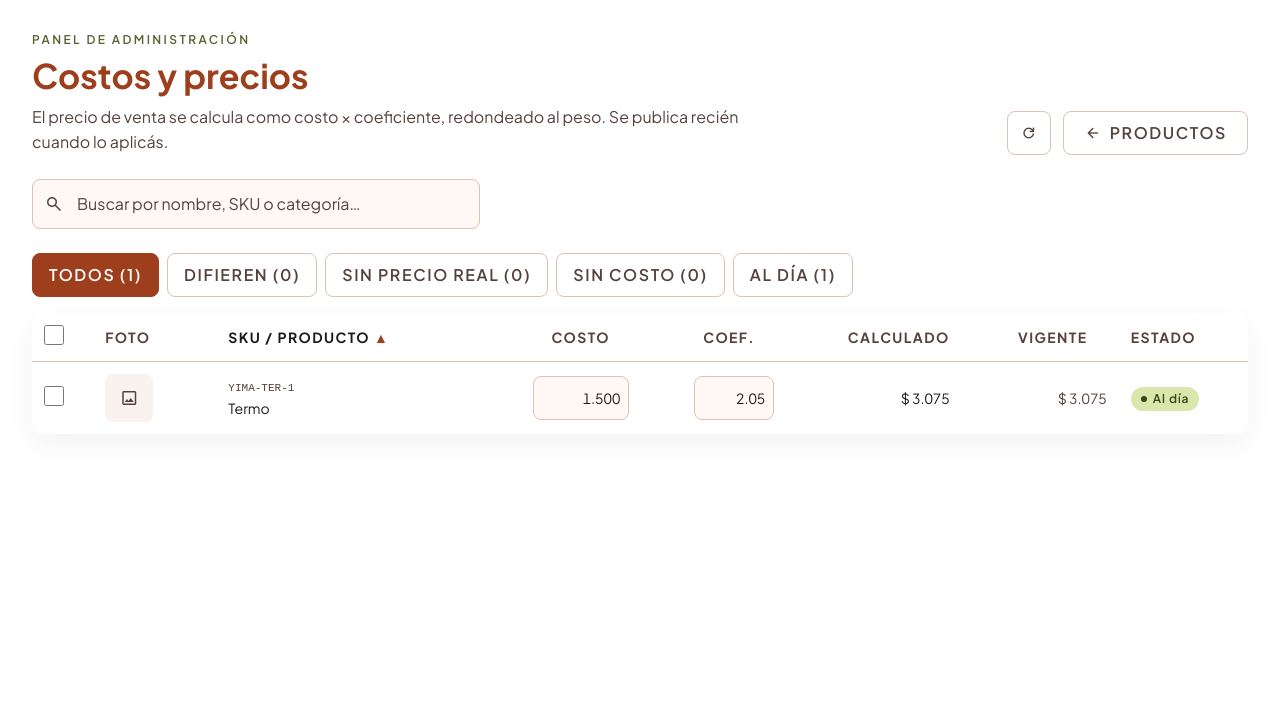
it: AdminPrecios — un costo sin escribir bloquea la previsualización › un borrador en una fila seleccionada bloquea el diálogo y NOMBRA la fila
Expected: the text "Termo" is shown, [228,399,270,417]
Click the checkbox named "Seleccionar Termo" at (54, 396), box [44,386,64,406]
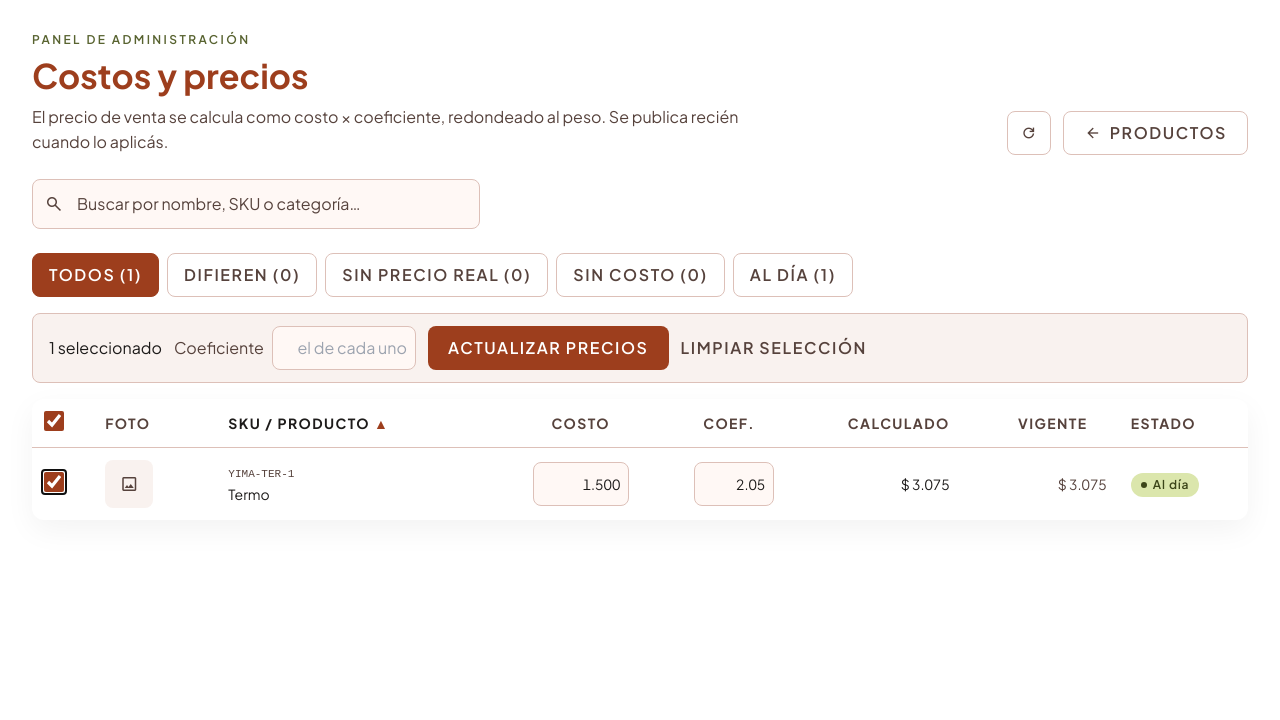
Clear the 1st field named "Costo de Termo" at (581, 484), box [533,462,629,506]
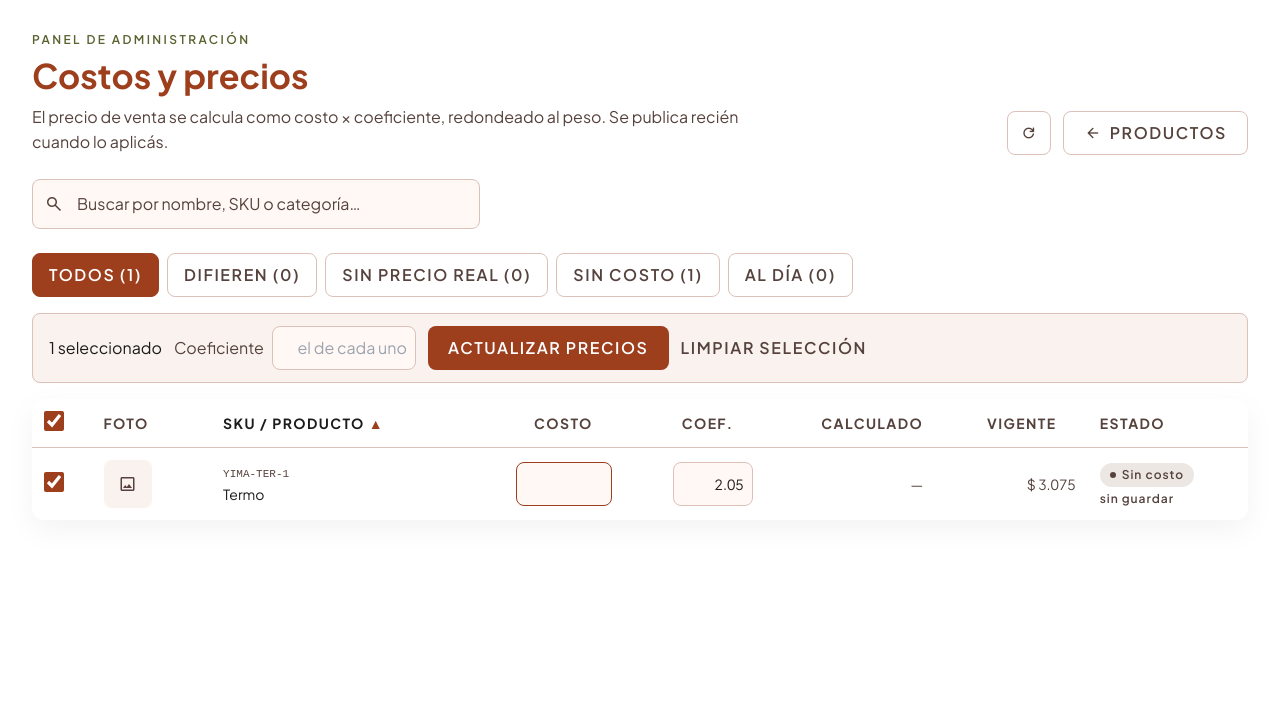
Type "2000" into the 1st field named "Costo de Termo" at (564, 484), box [516,462,612,506]
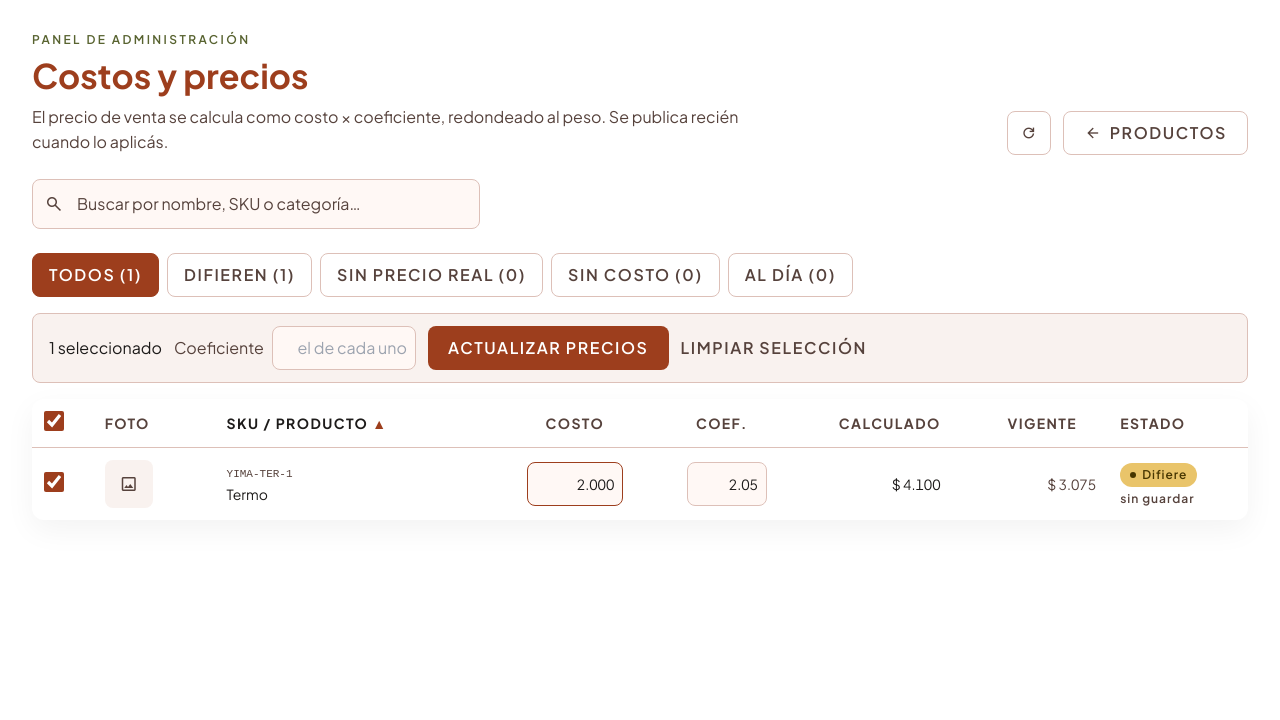
Click the button "Actualizar precios" at (548, 348), box [428,326,669,370]
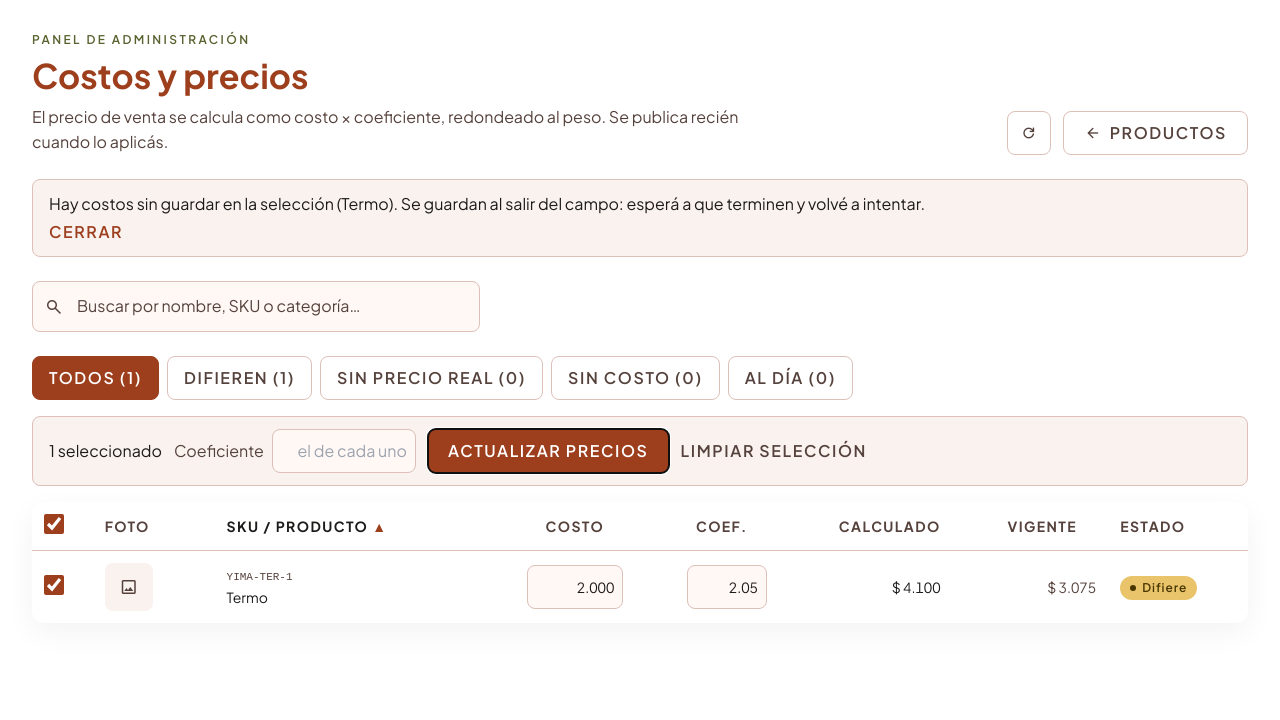
Now the message shows "Hay costos sin guardar en la selección (Termo)", box [49,193,925,214]
